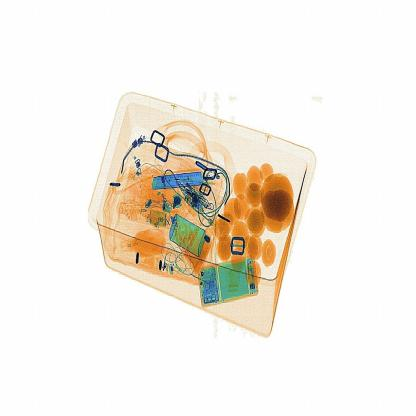pliers: (146, 164, 219, 196)
